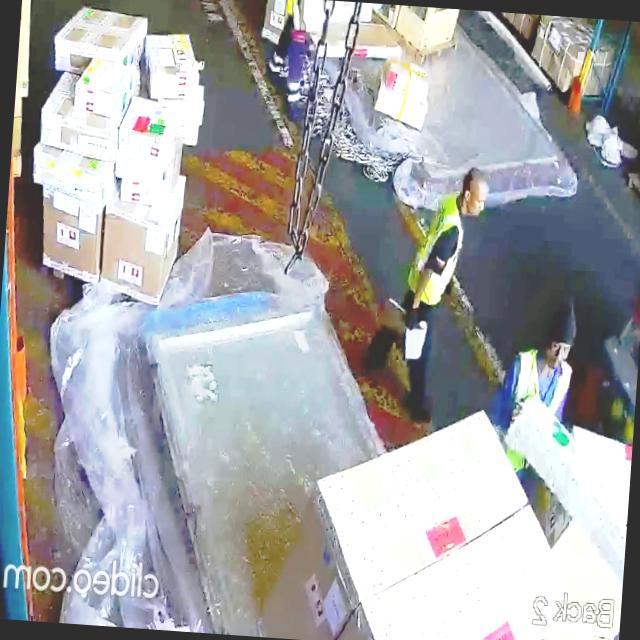Box: (97, 202, 183, 290), (54, 7, 146, 67), (39, 196, 104, 280), (366, 52, 434, 129), (116, 100, 178, 162), (148, 28, 202, 98), (34, 115, 108, 155), (31, 154, 105, 192), (80, 60, 130, 109)
